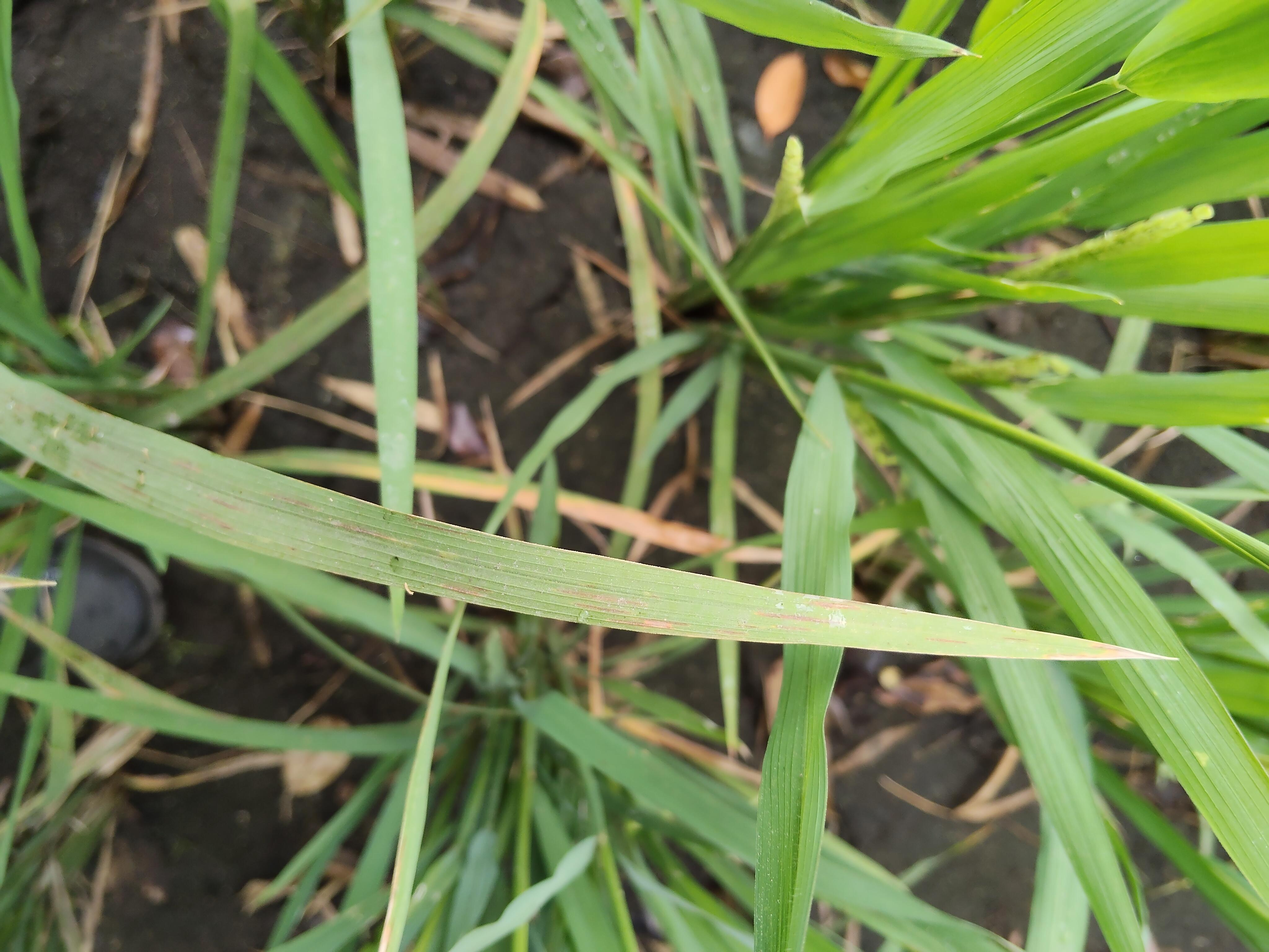NBS: (552, 587, 648, 609), (331, 517, 396, 542), (607, 617, 694, 629), (190, 509, 234, 532), (271, 493, 321, 513), (757, 612, 828, 624), (572, 603, 636, 616), (414, 522, 468, 536), (442, 583, 488, 599), (207, 496, 244, 514), (171, 459, 205, 475), (813, 599, 860, 610), (775, 625, 813, 632), (926, 638, 967, 644), (714, 629, 747, 636), (1004, 638, 1028, 641)
